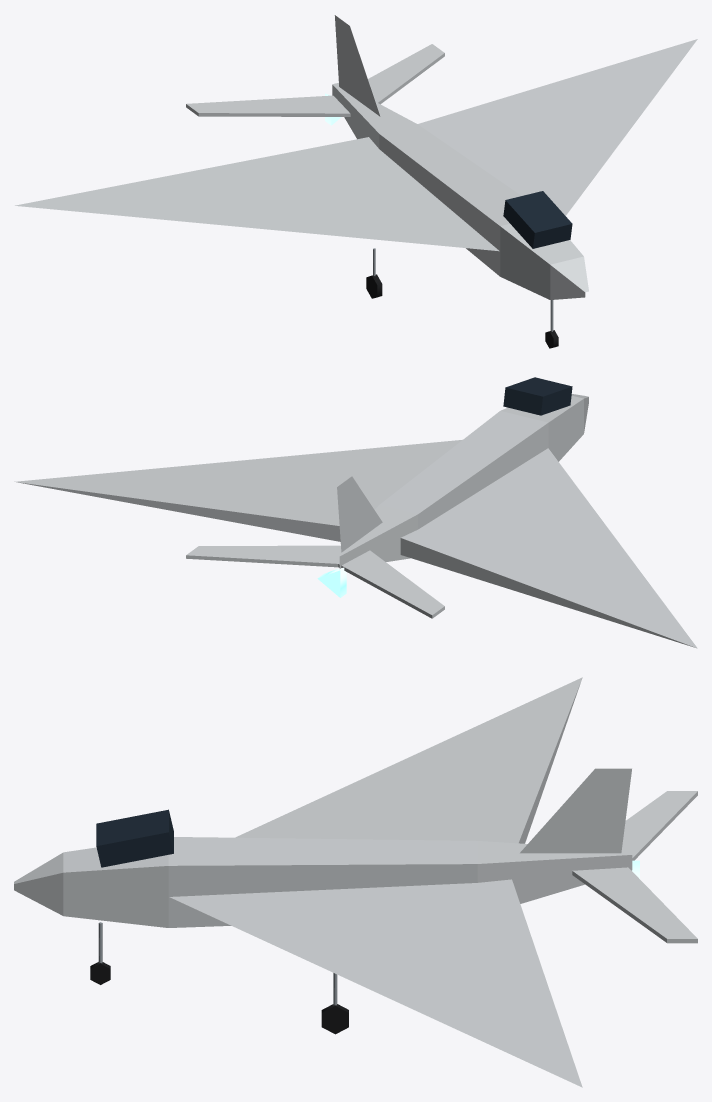
The model's file is veh_air_bomber_a09_lod2.glb.
The picture shows the model from 3 angles, top to bottom: view 1: azimuth 30°, elevation 25°; view 2: azimuth 150°, elevation 25°; view 3: azimuth 270°, elevation 25°; orthographic projection. The views are drawn at different scales.
Visible parts, largest first — view 1: body; view 2: body; view 3: body, gear_2.
Part boxes in pixels (x1=…): body: x1=15, y1=15, x2=697, y2=299; body: x1=14, y1=377, x2=697, y2=648; body: x1=14, y1=677, x2=697, y2=1087; gear_2: x1=321, y1=973, x2=348, y2=1034.
Bounding box in the file's own units: 24.64 × 6.04 × 17.35.
